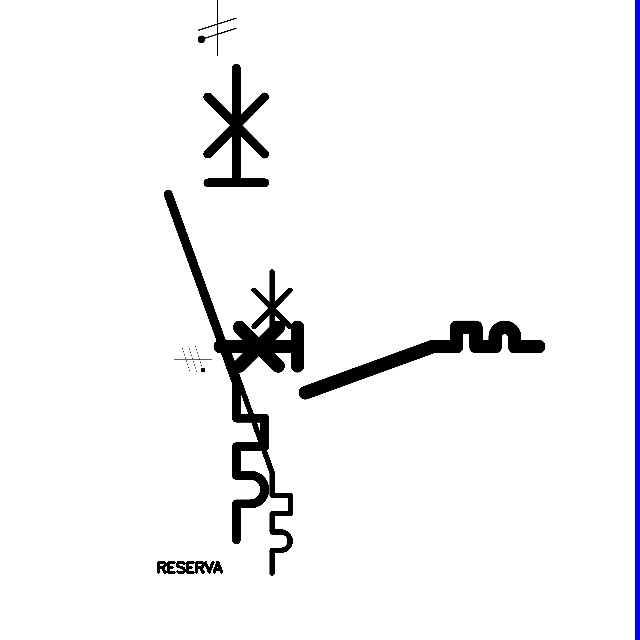interruptor_termomagnetico: (156, 56, 277, 552), (211, 319, 546, 401), (221, 264, 298, 581)
